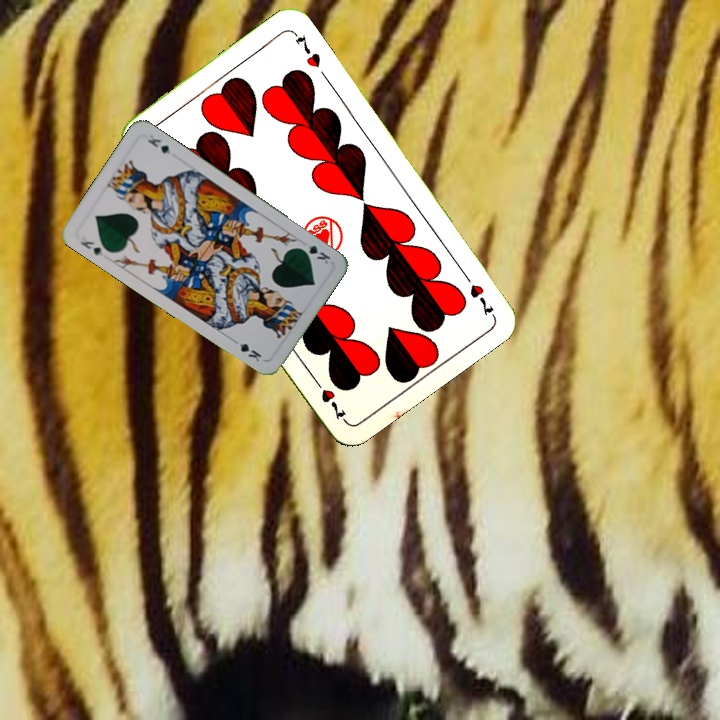GK: (295, 241, 333, 267), (76, 232, 106, 259)
H7: (457, 266, 497, 319)
